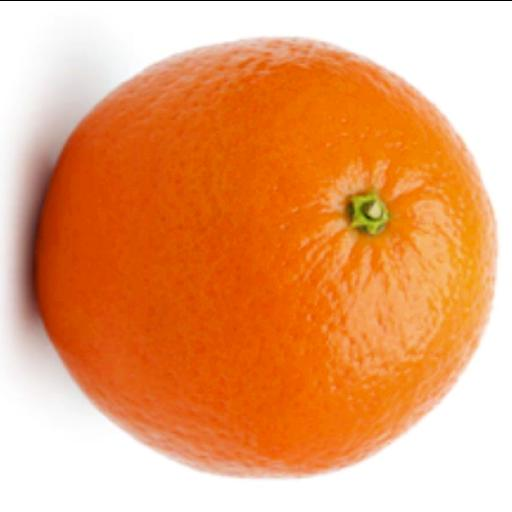orange: (36, 39, 494, 476)
